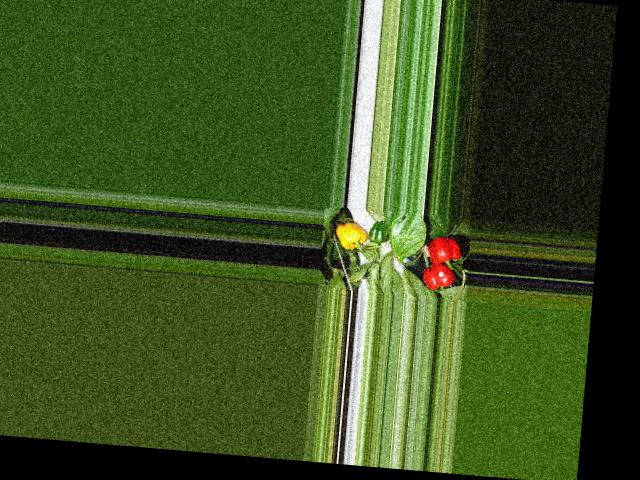bell_pepper: (331, 218, 369, 252)
